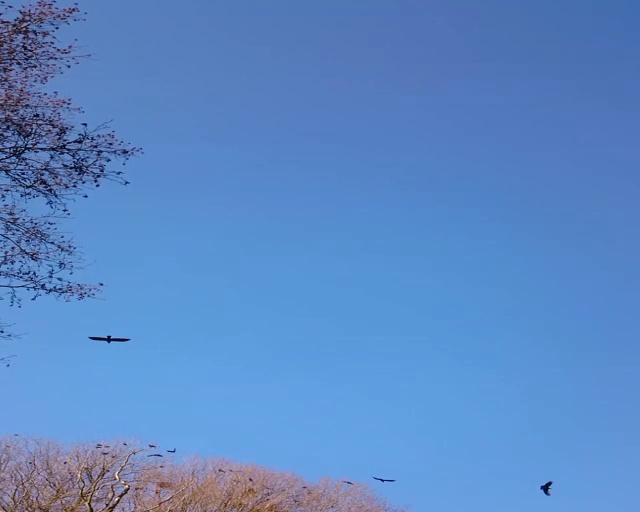BIRD: (540, 480, 553, 496)
